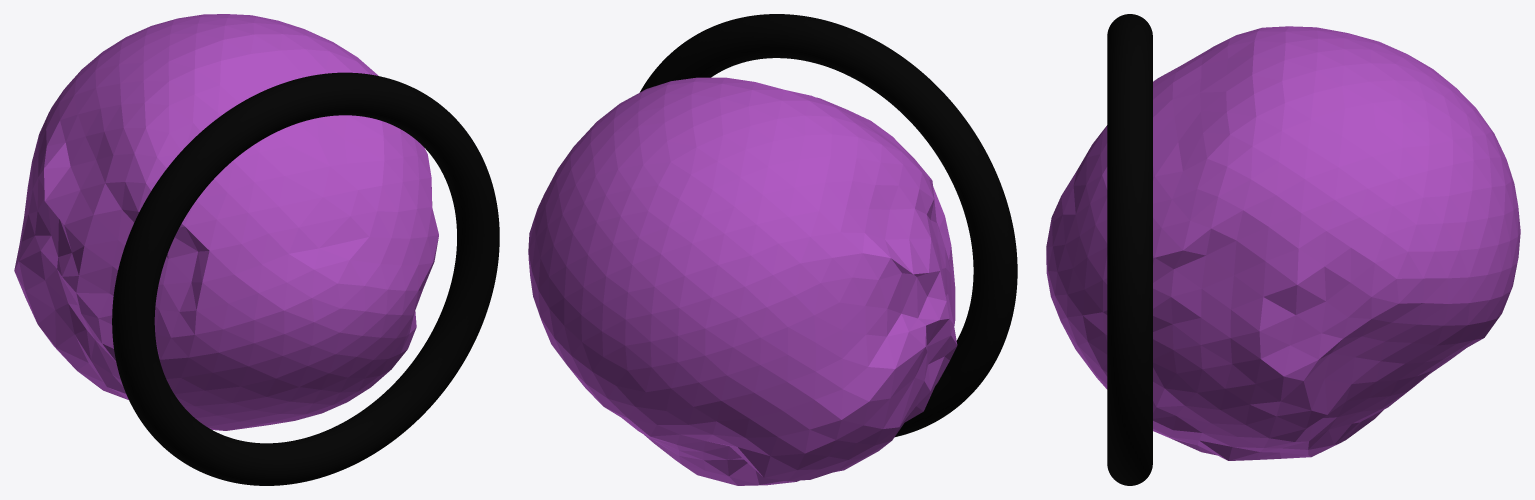
File: G01_DEFORM_ONLY.glb
3 views of the same model, side by side, from view 1: azimuth 30°, elevation 25°; view 2: azimuth 150°, elevation 25°; view 3: azimuth 270°, elevation 25° (orthographic). The views are drawn at different scales.
Parts seen in each view (by area): view 1: G01_DEFORM_ONLY, Ring_CAD; view 2: G01_DEFORM_ONLY, Ring_CAD; view 3: G01_DEFORM_ONLY, Ring_CAD.
Part boxes in pixels (bbox=[...]): G01_DEFORM_ONLY: bbox=[14, 14, 438, 430]; Ring_CAD: bbox=[112, 72, 499, 485]; G01_DEFORM_ONLY: bbox=[528, 77, 957, 485]; Ring_CAD: bbox=[640, 14, 1017, 436]; G01_DEFORM_ONLY: bbox=[1046, 26, 1520, 460]; Ring_CAD: bbox=[1107, 14, 1152, 485].
Bounding box in the file's own units: 0.0124 × 0.0124 × 0.0125.
